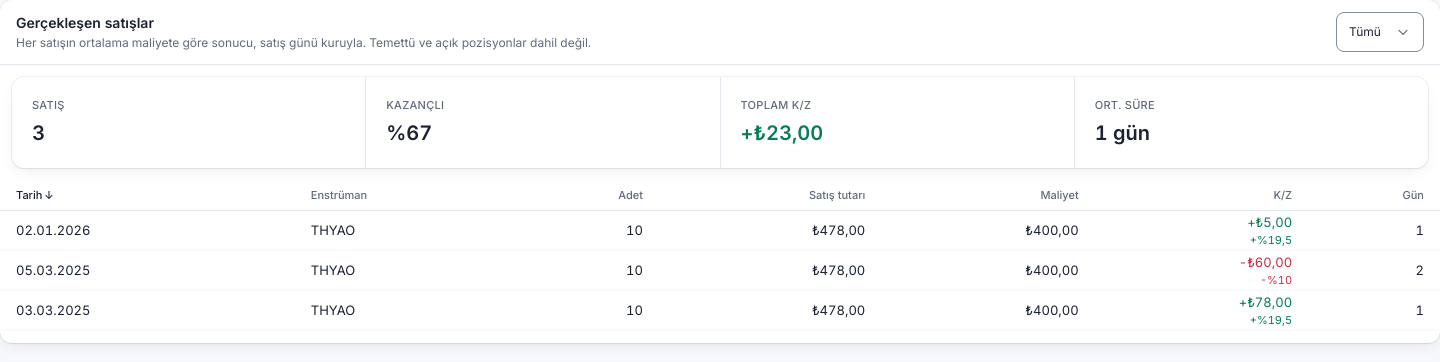
Test: TradesCard › keeps one year in the table and the figures
Expected: the table is shown, [0,180,1439,331]
Click the dropdown named "Yıl" at {"x": 1380, "y": 32}, box [1336,12,1424,52]
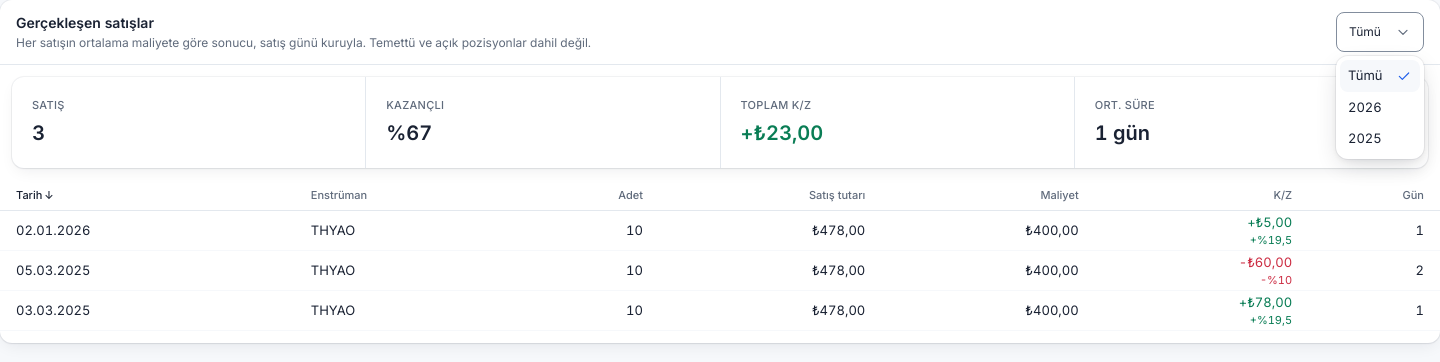
Expected: the list is shown, [1340,60,1420,154]
Click the option "2026" at {"x": 1365, "y": 106}, box [1348,98,1382,114]
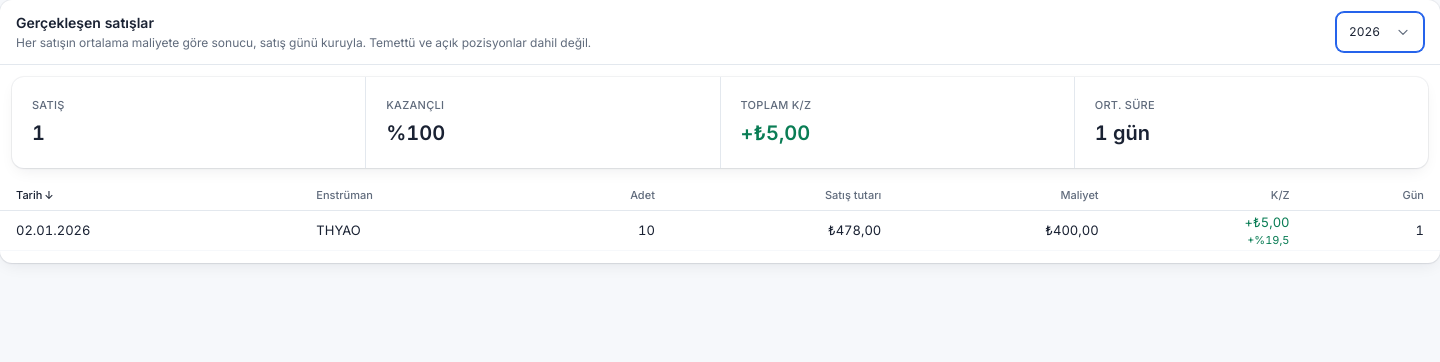
Expected: the list is gone
